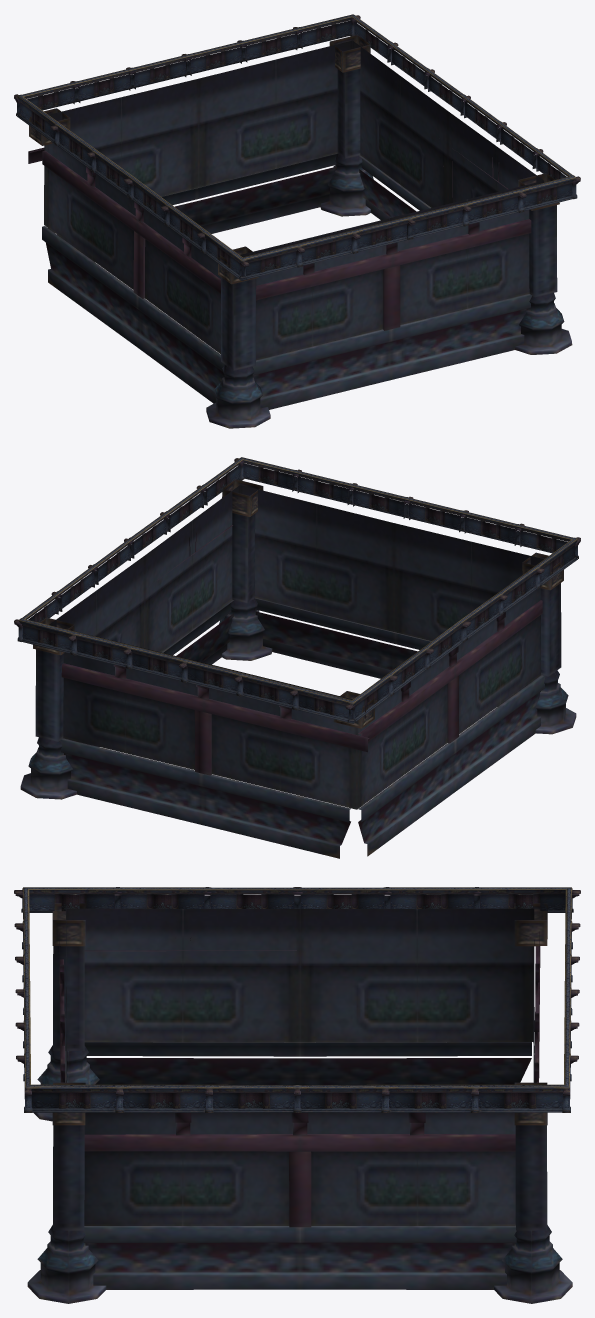
Rendered from Map03_Building_03.FBX.
3 renders of one model, top to bottom at view 1: azimuth 30°, elevation 25°; view 2: azimuth 150°, elevation 25°; view 3: azimuth 270°, elevation 25°, orthographic. The views are drawn at different scales.
Parts seen in each view (by area): view 1: Map03_Building_03, DrawCall_420; view 2: Map03_Building_03, DrawCall_420; view 3: Map03_Building_03, DrawCall_420.
Part boxes in pixels (box(x1,y1,x2,y2)): Map03_Building_03: box(28, 35, 572, 428); DrawCall_420: box(14, 14, 580, 280); Map03_Building_03: box(20, 479, 576, 858); DrawCall_420: box(14, 457, 580, 723); Map03_Building_03: box(27, 903, 572, 1303); DrawCall_420: box(14, 887, 580, 1112).
Size of the model in its own units: 4591 by 2112 by 5134.
